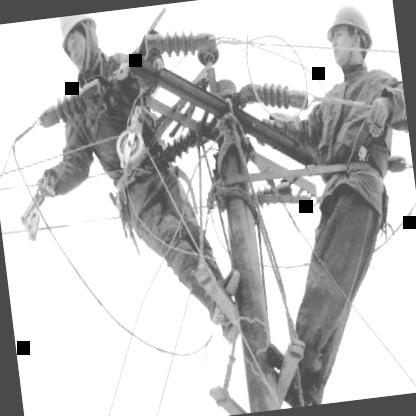helmet: (318, 0, 380, 75), (53, 12, 104, 76)
